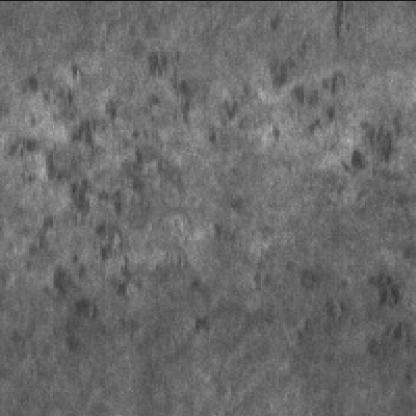rolled-in_scale: (4, 52, 178, 356), (174, 64, 408, 206), (291, 262, 406, 356)
